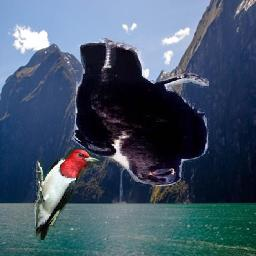Crow: (71, 38, 209, 186)
Woodpecker: (33, 148, 102, 240)
